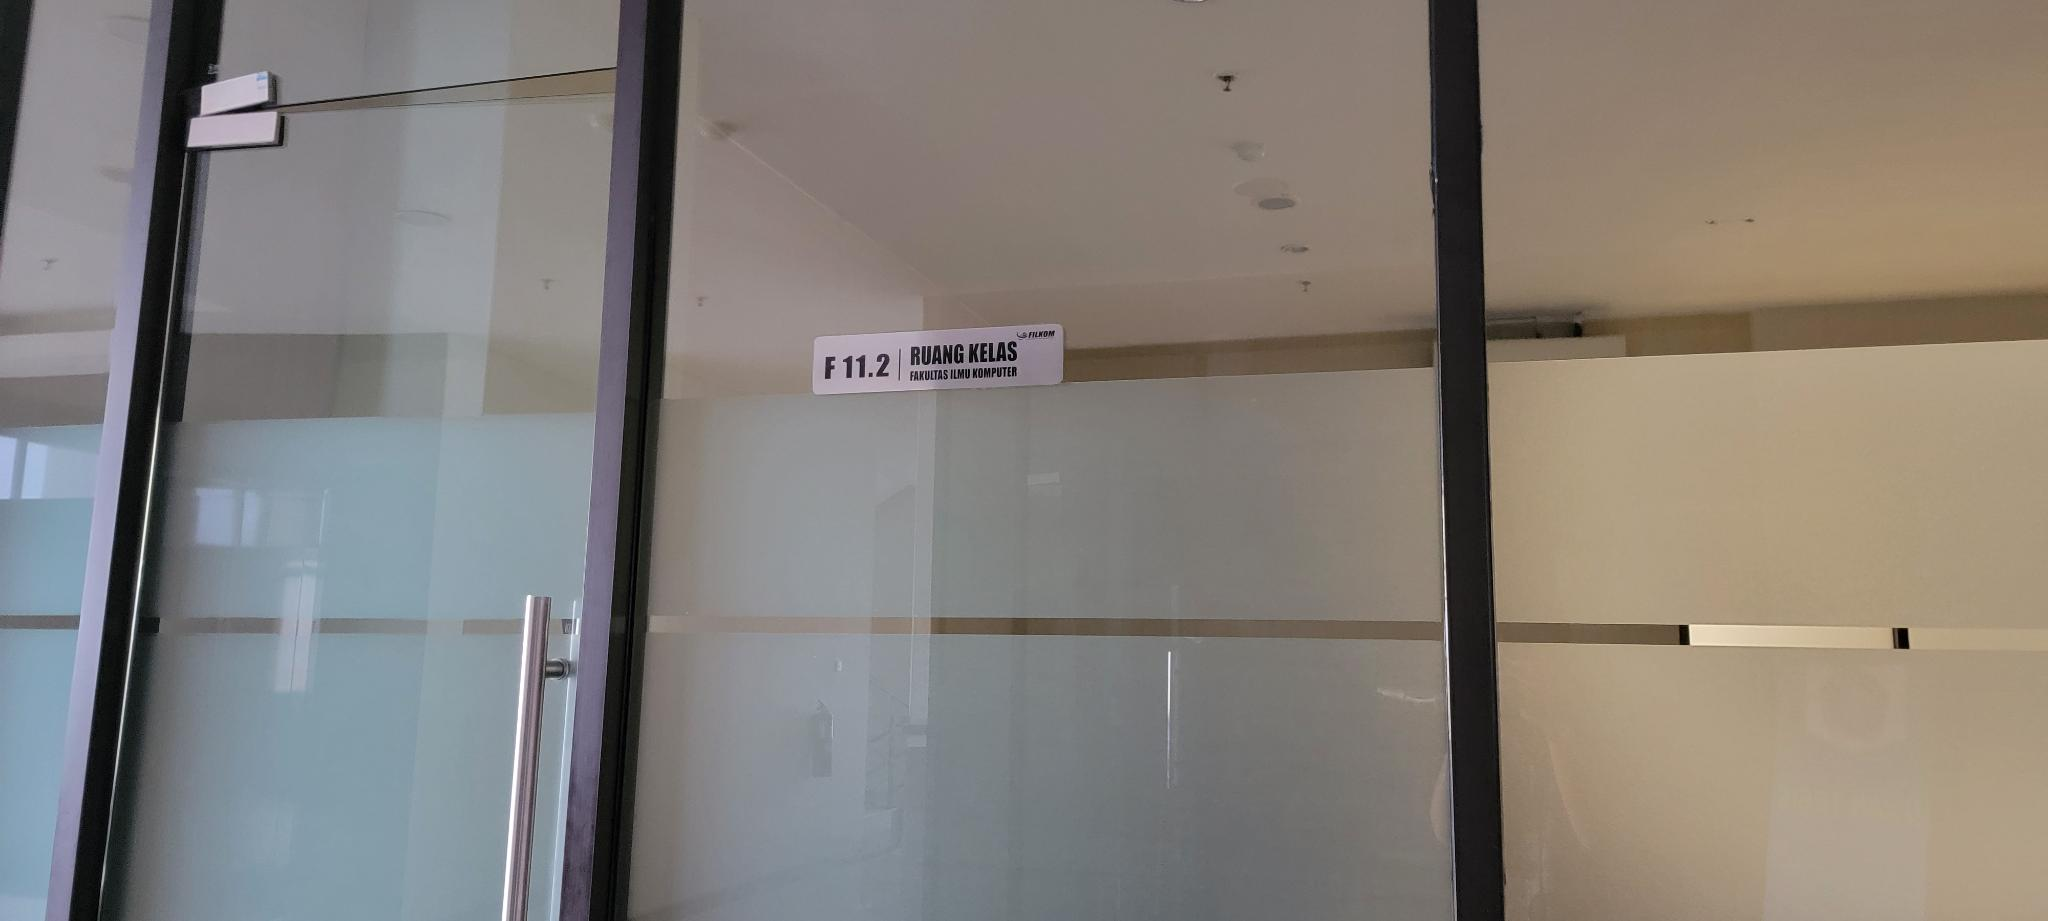plate: (812, 320, 1066, 396)
